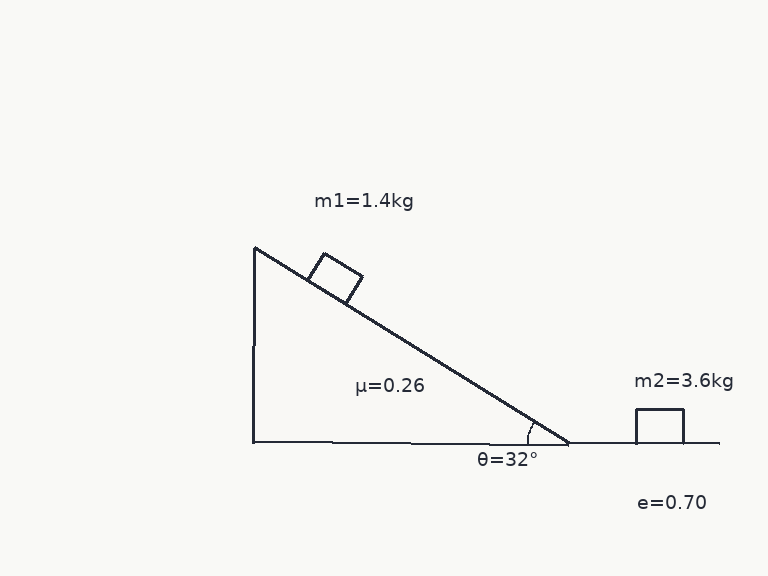block: (305, 251, 364, 306), (634, 407, 684, 445)
ramp: (252, 245, 570, 445)
